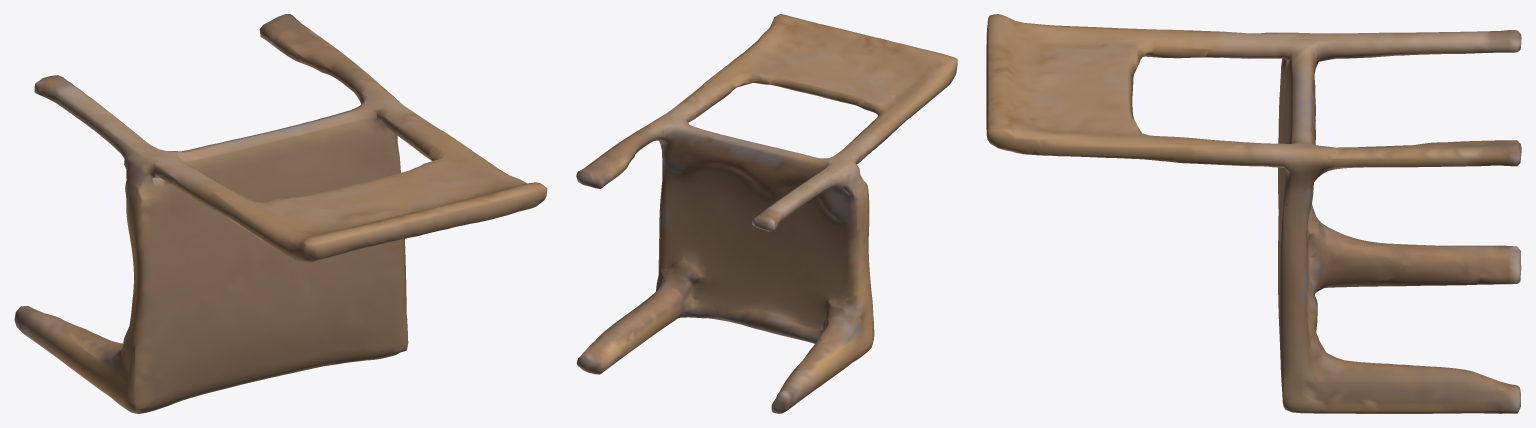
File: a chair with support affordance.obj
3 views of the same model, side by side, from view 1: azimuth 30°, elevation 25°; view 2: azimuth 150°, elevation 25°; view 3: azimuth 270°, elevation 25° (orthographic). The views are drawn at different scales.
Bounding box in the file's own units: 0.6184 × 0.5927 × 1.
